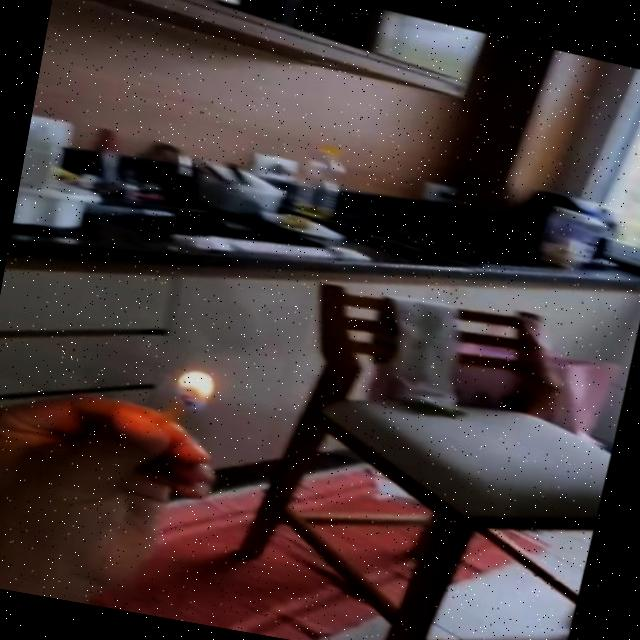fire: (174, 362, 219, 409)
